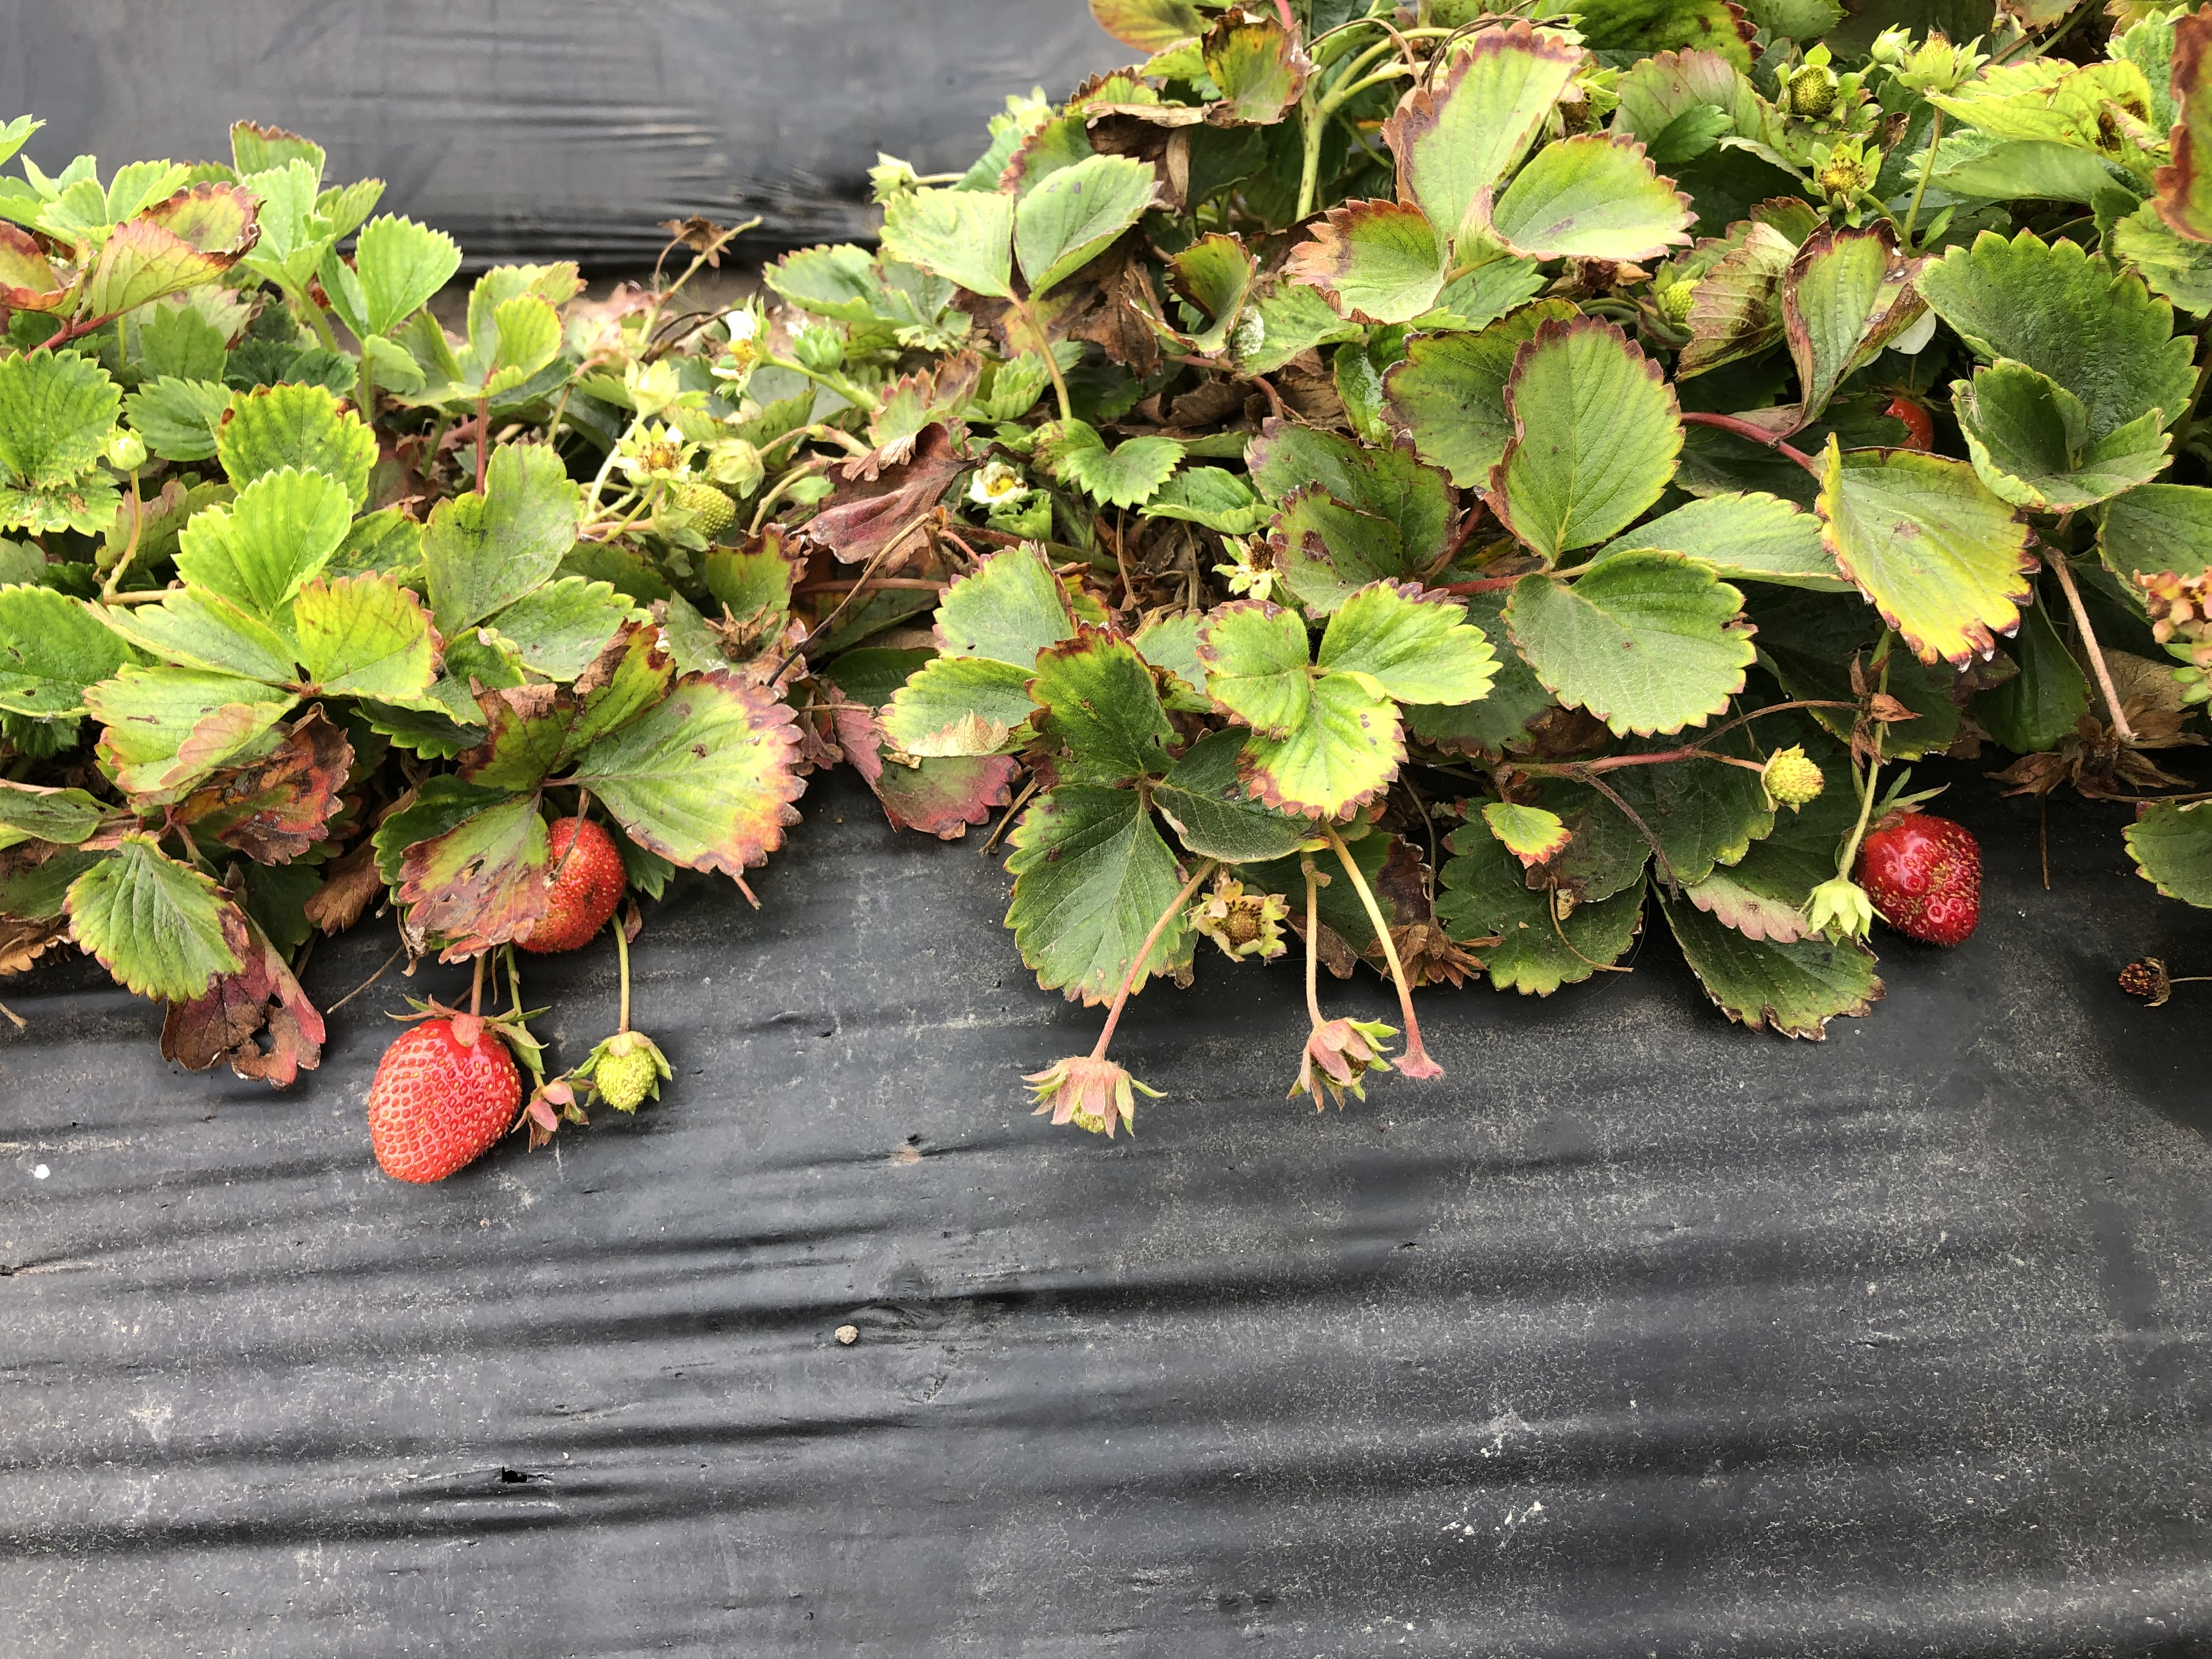ripe_strawberry: (364, 1007, 533, 1190), (1848, 805, 1987, 953), (1879, 387, 1939, 457)
unripe_strawberry: (505, 812, 632, 958), (587, 1032, 669, 1114), (658, 479, 738, 547), (1759, 746, 1831, 809), (1782, 58, 1843, 125), (1651, 267, 1703, 335)
